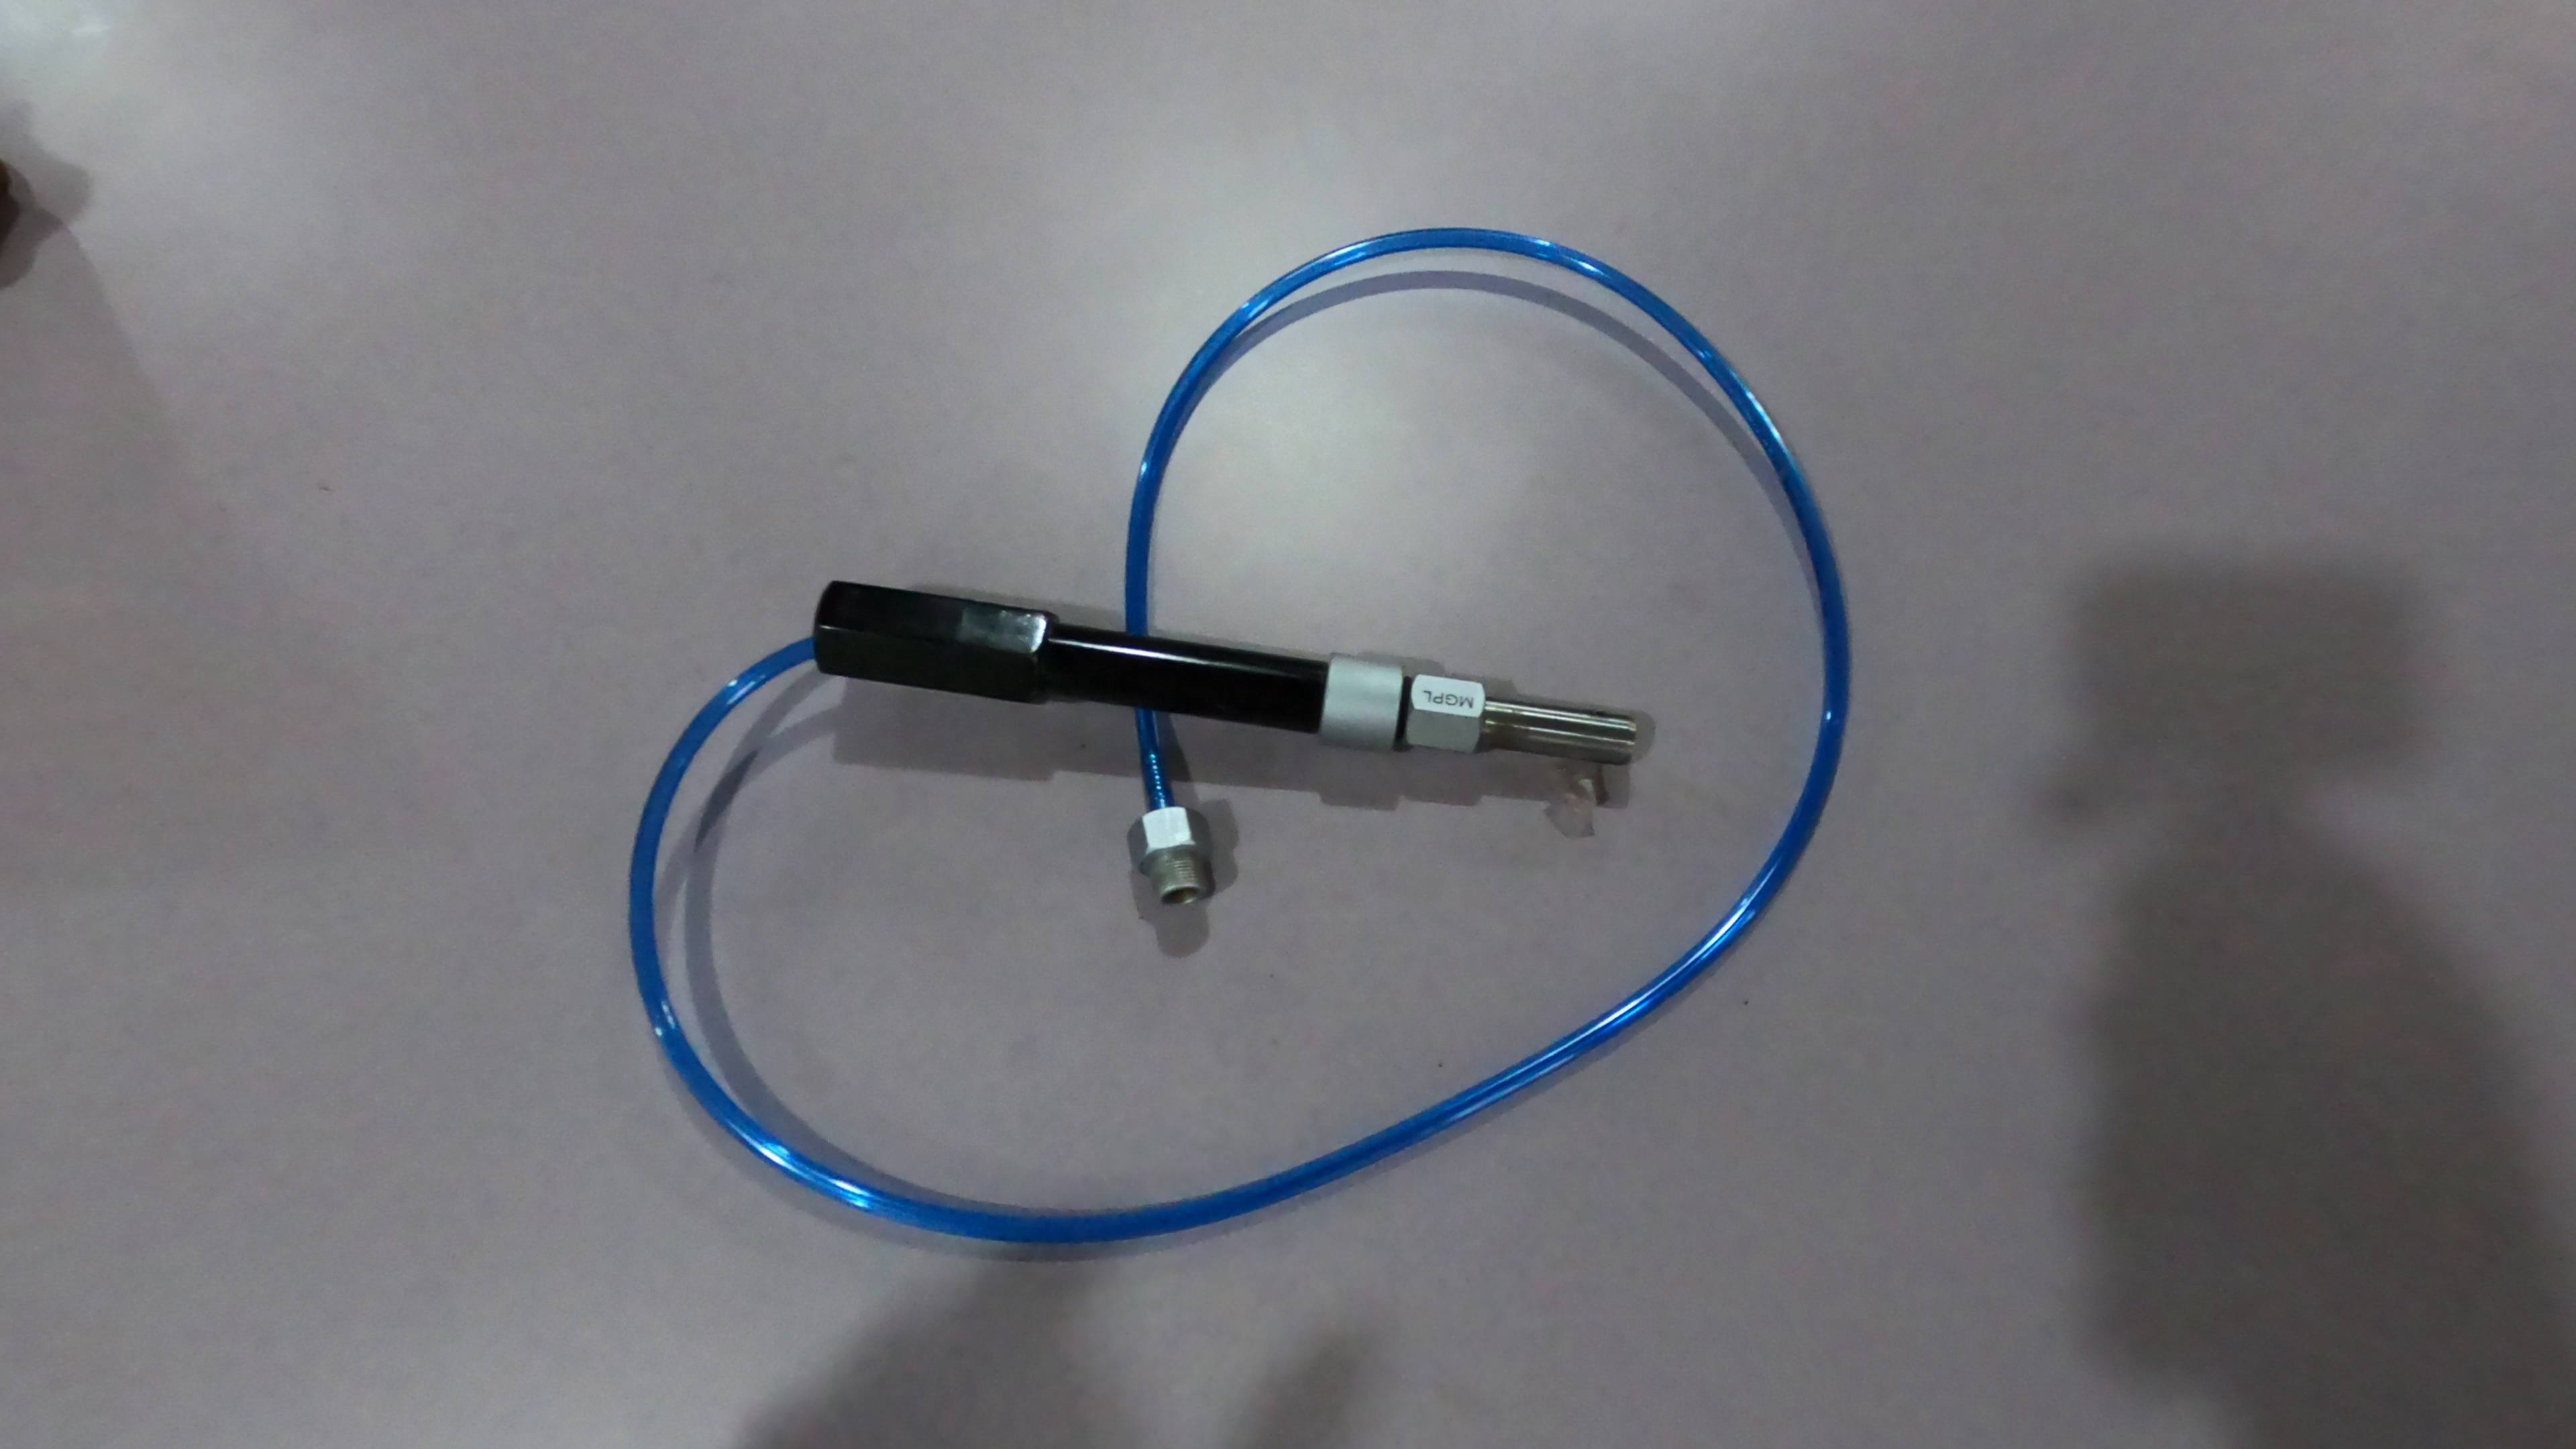air_gauge: (793, 563, 1642, 771)
